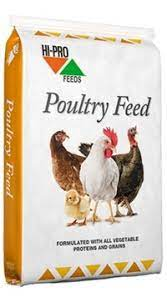feed_bag: (1, 9, 167, 289)
